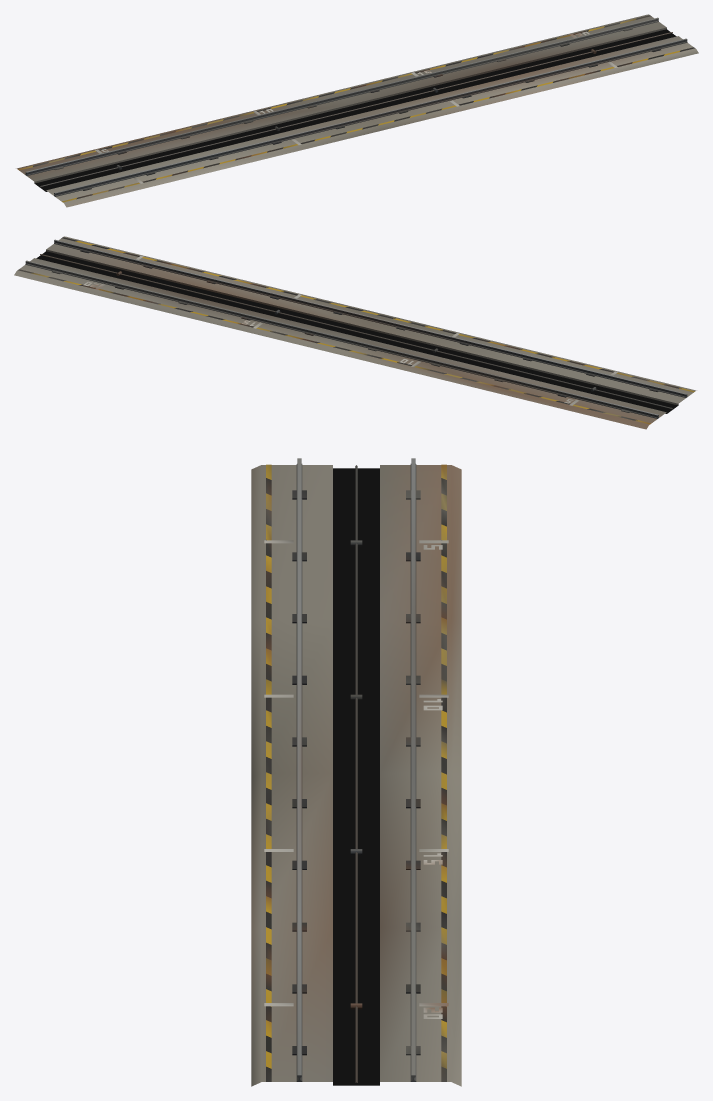
Rendered from sled_rail.glb.
3 renders of one model, top to bottom at view 1: azimuth 30°, elevation 25°; view 2: azimuth 150°, elevation 25°; view 3: azimuth 270°, elevation 25°, orthographic. The views are drawn at different scales.
Visible parts, largest first — view 1: SledRail; view 2: SledRail; view 3: SledRail.
Boxes of the visible parts, bbox=[...] form: SledRail: bbox=[16, 14, 698, 207]; SledRail: bbox=[14, 236, 696, 429]; SledRail: bbox=[251, 458, 461, 1086].
Size of the model in its own units: 20 by 0.17 by 2.88.
